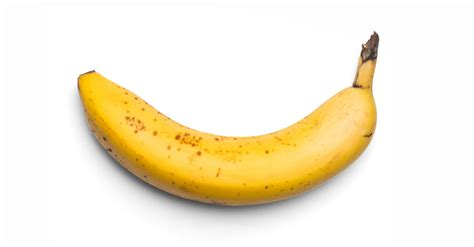banana: (73, 64, 384, 215)
